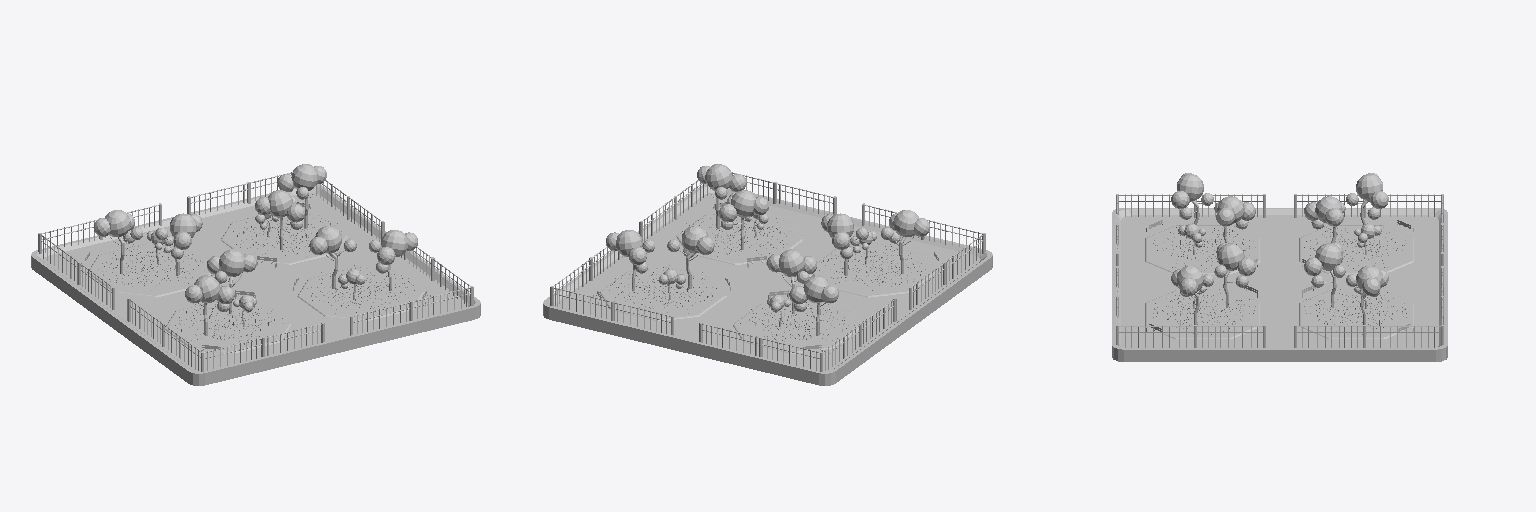
Rendered from green_3.obj.
The picture shows the model from 3 angles: view 1: azimuth 30°, elevation 25°; view 2: azimuth 150°, elevation 25°; view 3: azimuth 270°, elevation 25°; orthographic projection.
Visible parts, largest first — view 1: Garden_Fences.2891; view 2: Garden_Fences.2891; view 3: Garden_Fences.2891.
Boxes of the visible parts, box(x1,y1,x2,y2) form: Garden_Fences.2891: box(31, 164, 480, 385); Garden_Fences.2891: box(543, 164, 992, 385); Garden_Fences.2891: box(1112, 173, 1447, 361).
Size of the model in its own units: 0.9658 by 0.2224 by 0.9658.